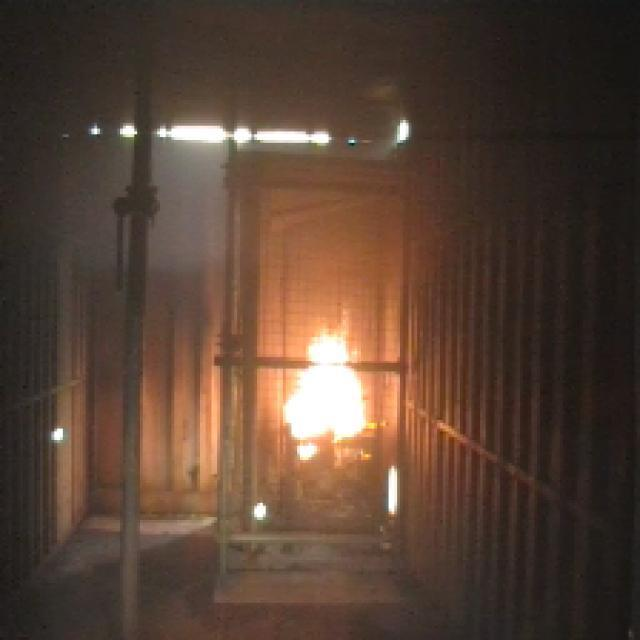Fire: (278, 238, 390, 562)
